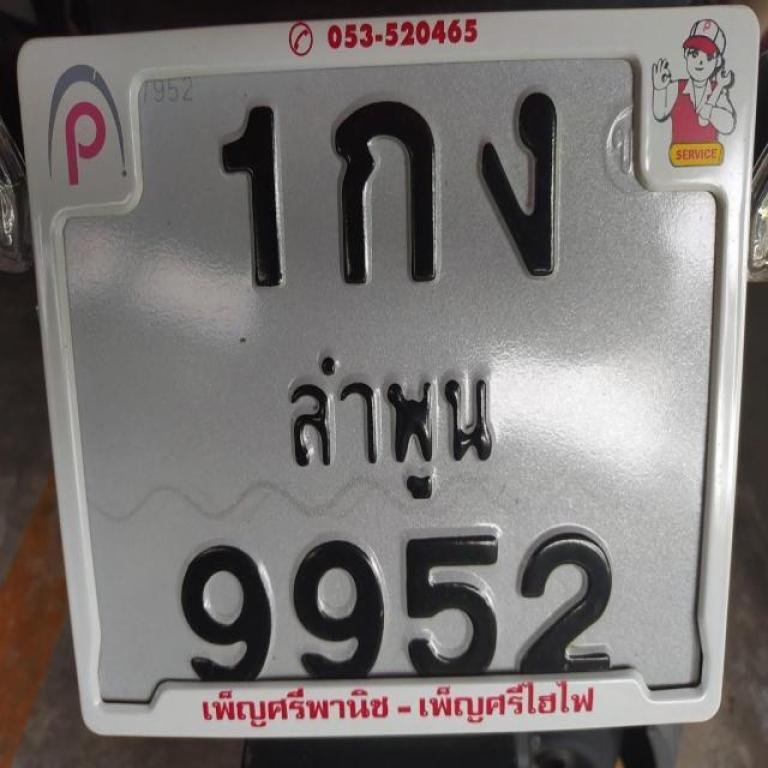license plate: (19, 8, 758, 740)
